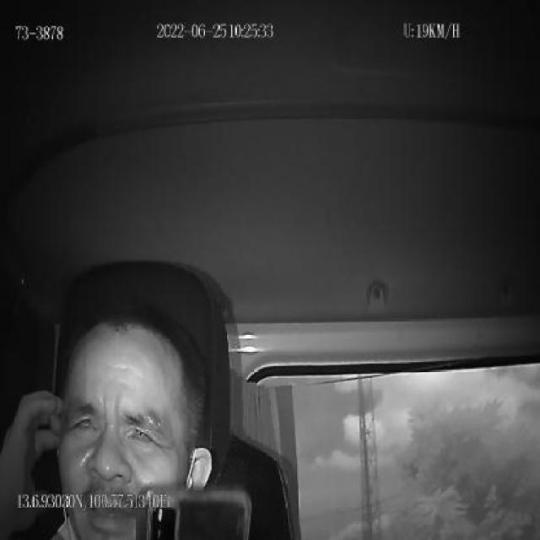phone: (134, 487, 252, 540)
